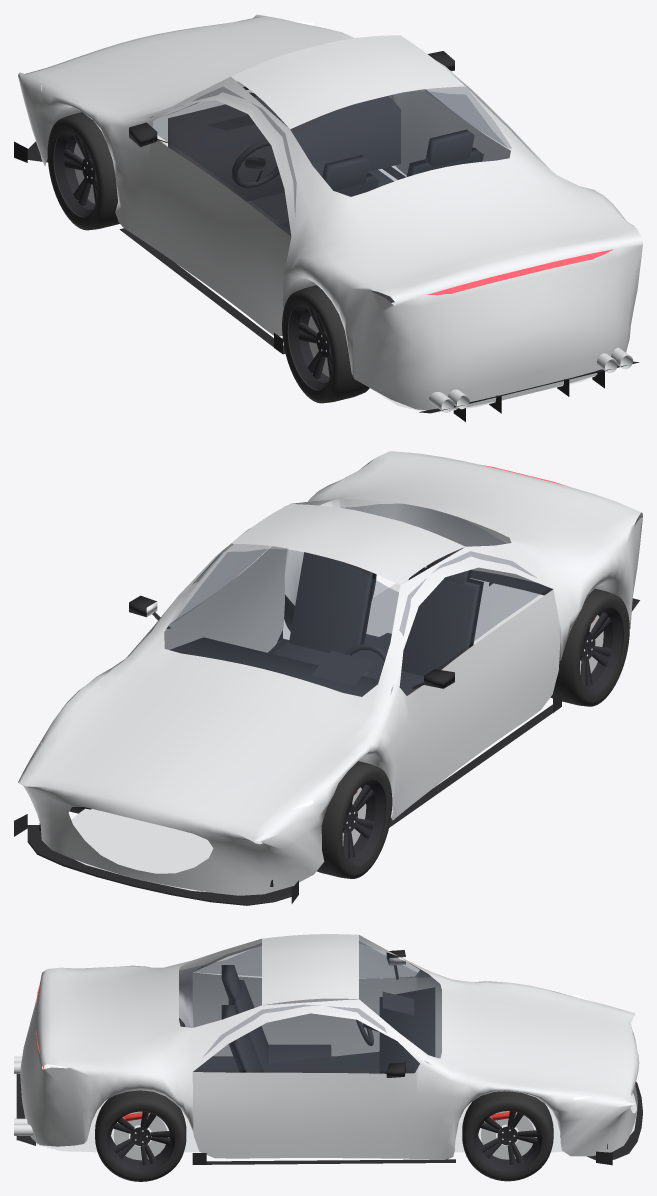
The model's file is APX01.glb.
The picture shows the model from 3 angles, top to bottom: view 1: azimuth 30°, elevation 25°; view 2: azimuth 150°, elevation 25°; view 3: azimuth 270°, elevation 25°; orthographic projection. The views are drawn at different scales.
Visible parts, largest first — view 1: APX01_Body, APX01_Glass, APX01_Interior, RL_Wheel, FL_Wheel, APX01_Trim, APX01_Lights_Rear; view 2: APX01_Body, APX01_Glass, APX01_Interior, APX01_Trim, FL_Wheel, RL_Wheel; view 3: APX01_Body, APX01_Glass, APX01_Interior, RR_Wheel, FR_Wheel, APX01_Trim.
Boxes of the visible parts, x1,y1,x2,y2 form: APX01_Body: (18, 14, 642, 413); APX01_Glass: (149, 77, 534, 231); APX01_Interior: (168, 96, 483, 302); RL_Wheel: (282, 285, 369, 403); FL_Wheel: (47, 112, 119, 230); APX01_Trim: (14, 51, 639, 421); APX01_Lights_Rear: (427, 249, 613, 295); APX01_Body: (18, 451, 642, 895); APX01_Glass: (149, 504, 548, 696); APX01_Interior: (170, 548, 483, 696); APX01_Trim: (14, 570, 639, 905); FL_Wheel: (317, 761, 392, 878); RL_Wheel: (550, 588, 629, 706); APX01_Body: (20, 934, 639, 1159); APX01_Glass: (179, 941, 441, 1071); APX01_Interior: (193, 965, 435, 1073); RR_Wheel: (95, 1090, 186, 1181); FR_Wheel: (462, 1091, 553, 1181); APX01_Trim: (14, 950, 642, 1165).
Bounding box in the file's own units: 2.04 × 1.35 × 4.54.
